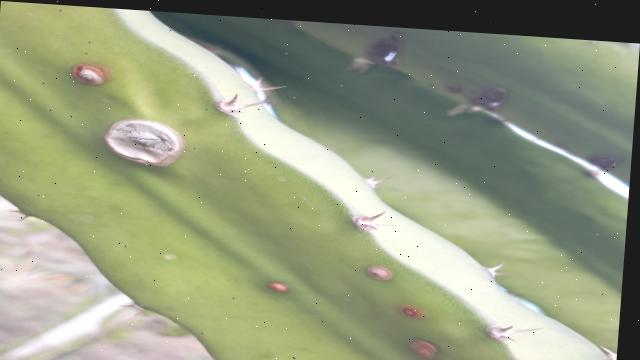stemcanker: (100, 115, 188, 166), (68, 59, 112, 91), (403, 334, 446, 359), (396, 301, 430, 322), (365, 262, 396, 284), (264, 278, 294, 296)
